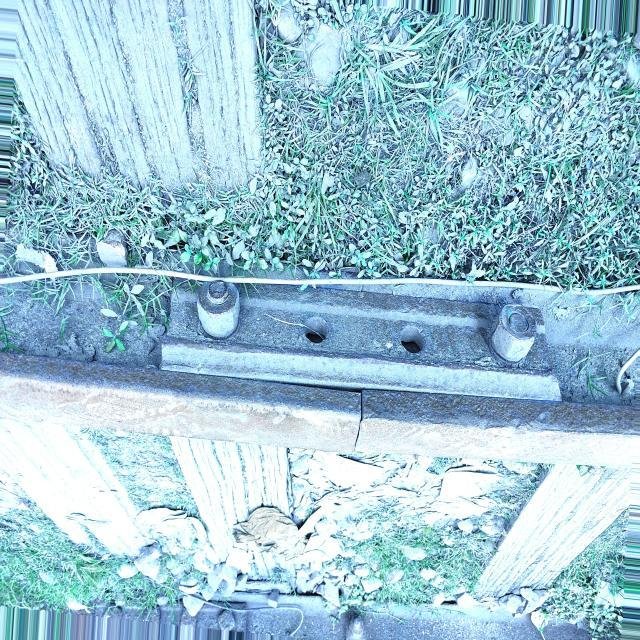Defective Joint: (156, 275, 563, 403)
